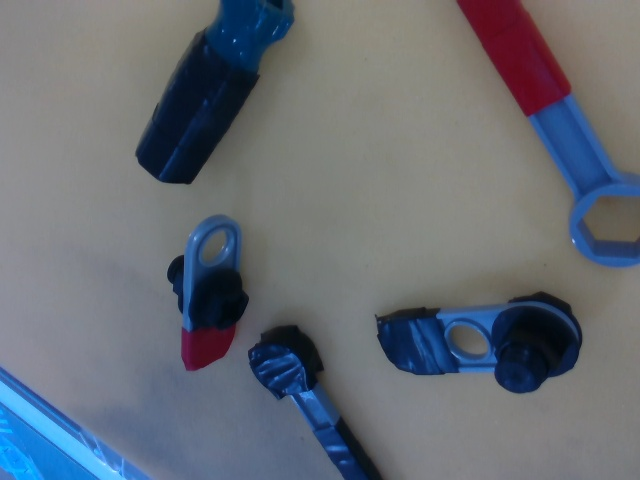part_1_good: (164, 213, 251, 375)
